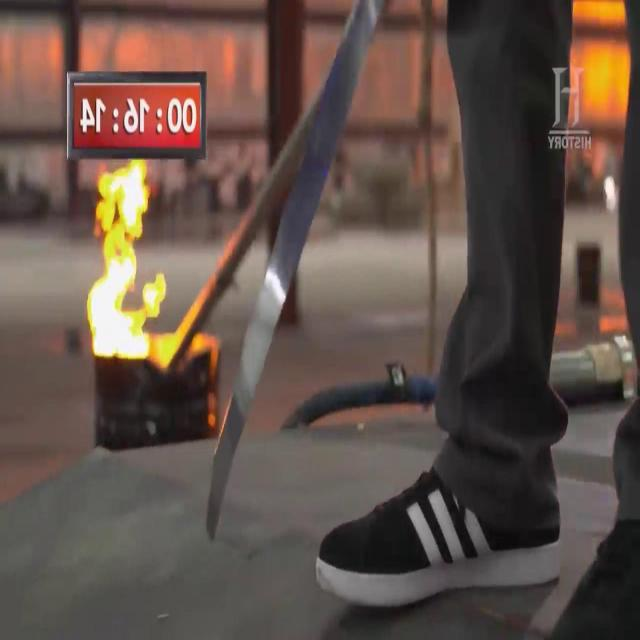Fire: (85, 166, 159, 356), (584, 7, 622, 117)
